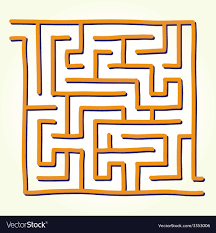maze: (8, 18, 206, 195)
